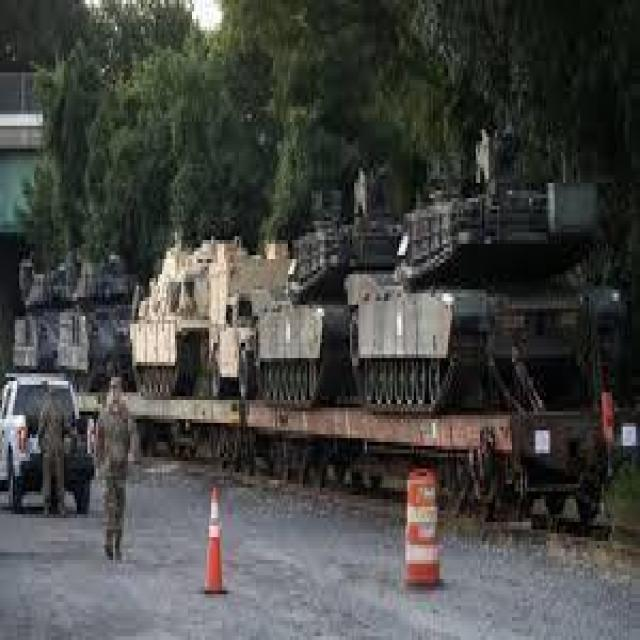Tanks: (351, 122, 566, 453), (206, 139, 347, 421), (24, 143, 130, 402), (119, 126, 207, 404)
